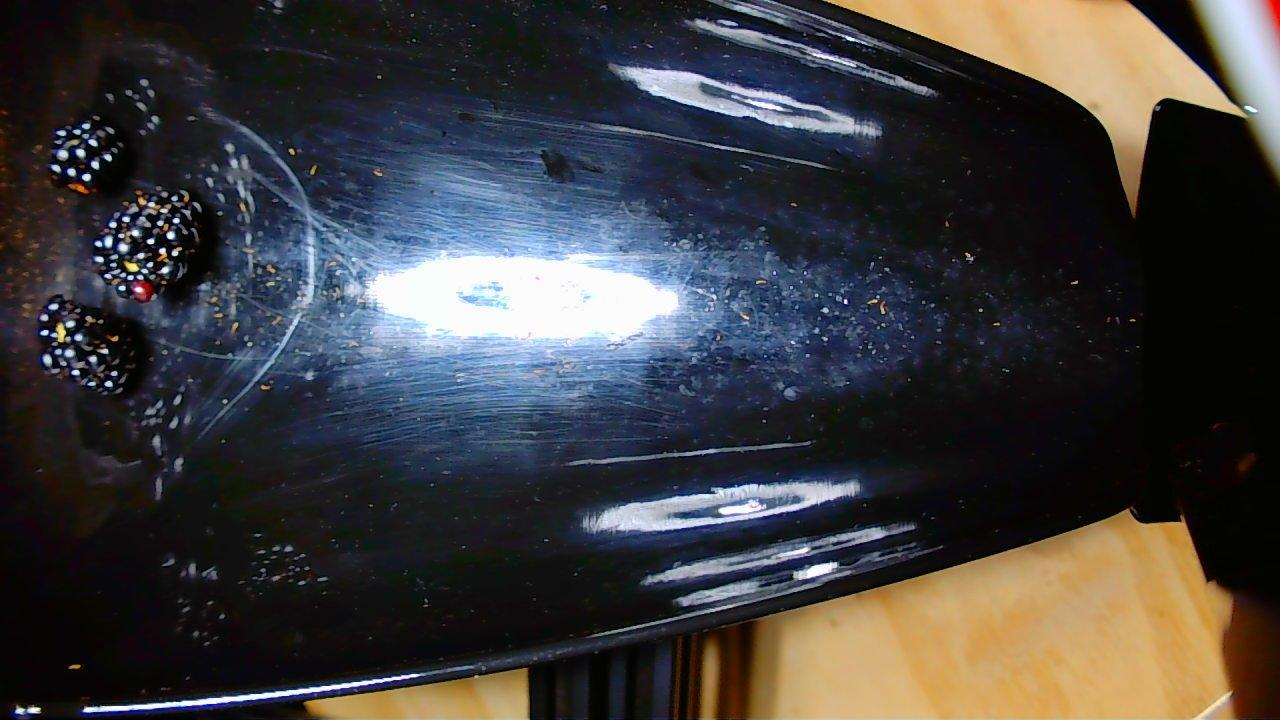berry: (88, 188, 214, 300), (30, 296, 146, 395), (45, 115, 131, 193)
